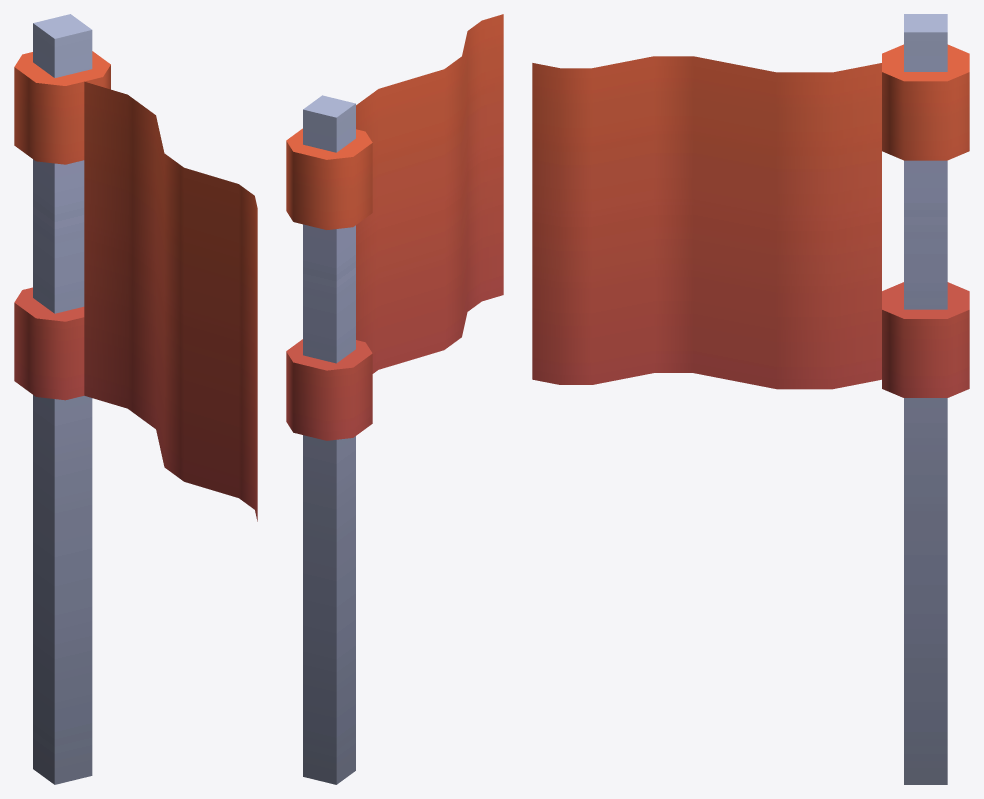
Rendered from flag.glb.
3 renders of one model, left to right at view 1: azimuth 30°, elevation 25°; view 2: azimuth 150°, elevation 25°; view 3: azimuth 270°, elevation 25°, orthographic. The views are drawn at different scales.
Parts seen in each view (by area): view 1: flag; view 2: flag; view 3: flag.
Boxes of the visible parts, x1,y1,x2,y2 form: flag: (14,14,257,784); flag: (286,14,503,784); flag: (532,14,969,784).
Size of the model in its own units: 0.1 by 0.95 by 0.5.
Materials: 1 (1 with a texture image).
